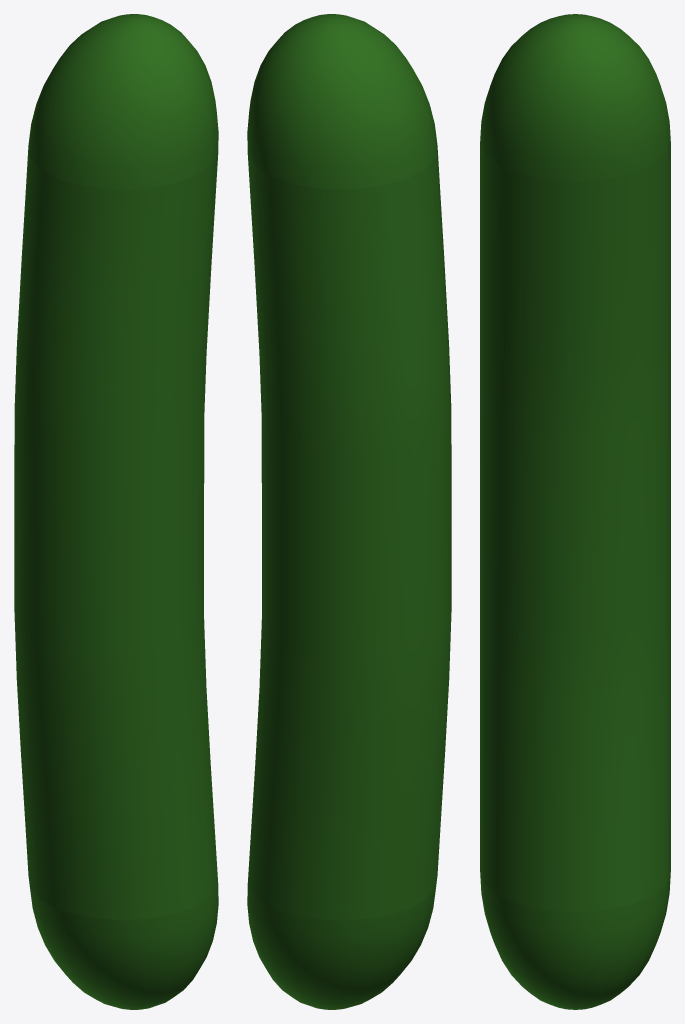
The model's file is CucumberFBX.fbx.
3 views of the same model, side by side, from view 1: azimuth 30°, elevation 25°; view 2: azimuth 150°, elevation 25°; view 3: azimuth 270°, elevation 25° (orthographic).
Parts seen in each view (by area): view 1: pSphere6; view 2: pSphere6; view 3: pSphere6.
Part boxes in pixels (left/top/right/bottom): pSphere6: left=14, top=14, right=218, bottom=1009; pSphere6: left=247, top=14, right=451, bottom=1009; pSphere6: left=480, top=14, right=670, bottom=1009.
Bounding box in the file's own units: 1.42 × 7.42 × 1.3.
